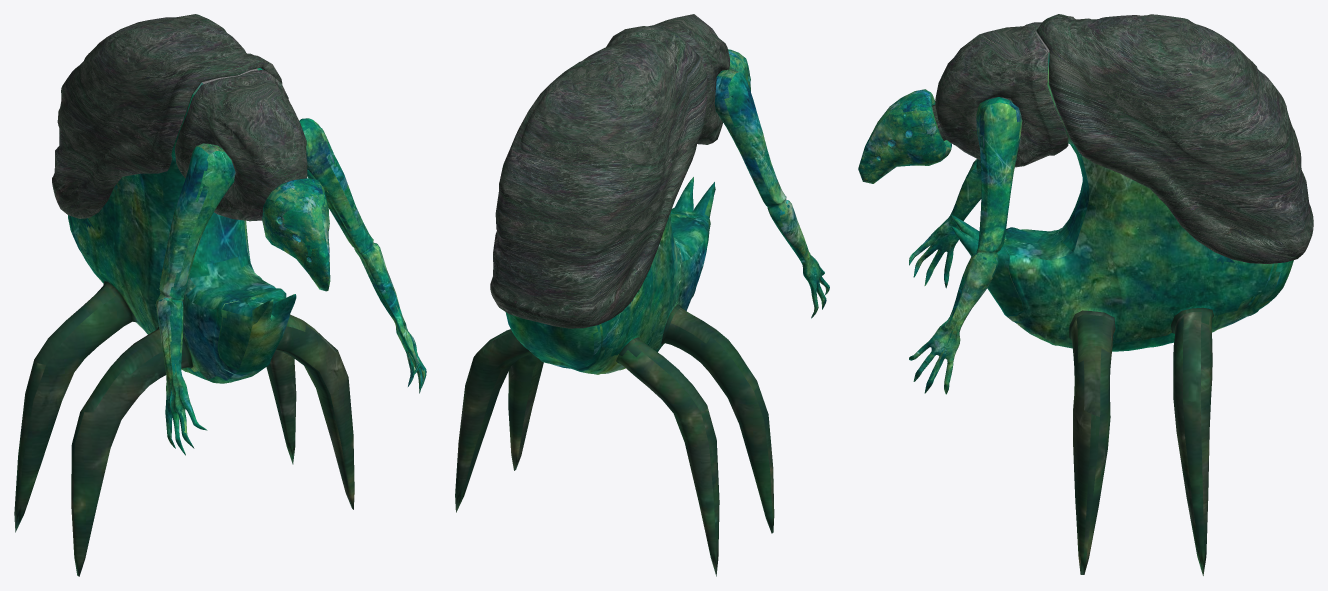
The model's file is Aranar.0000.obj.
The picture shows the model from 3 angles, left to right: view 1: azimuth 30°, elevation 25°; view 2: azimuth 150°, elevation 25°; view 3: azimuth 270°, elevation 25°; orthographic projection. The views are drawn at different scales.
Size of the model in its own units: 2.28 by 3.84 by 3.26.
5 materials, 4 textured.
